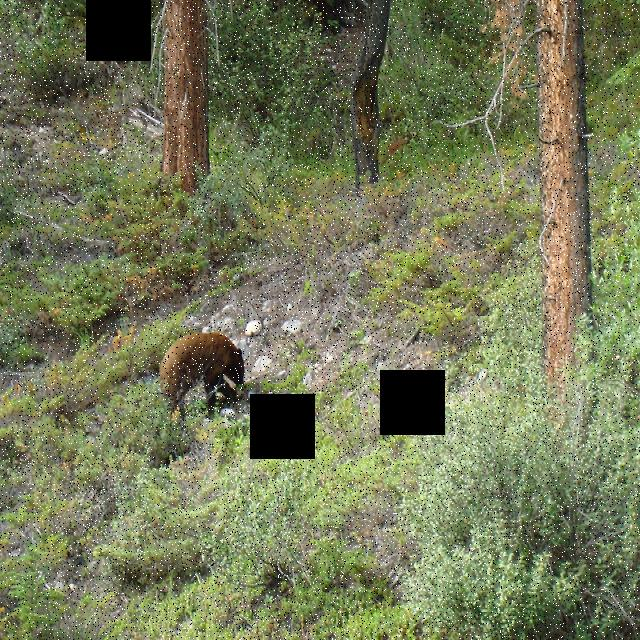Bear: (156, 332, 249, 414)
